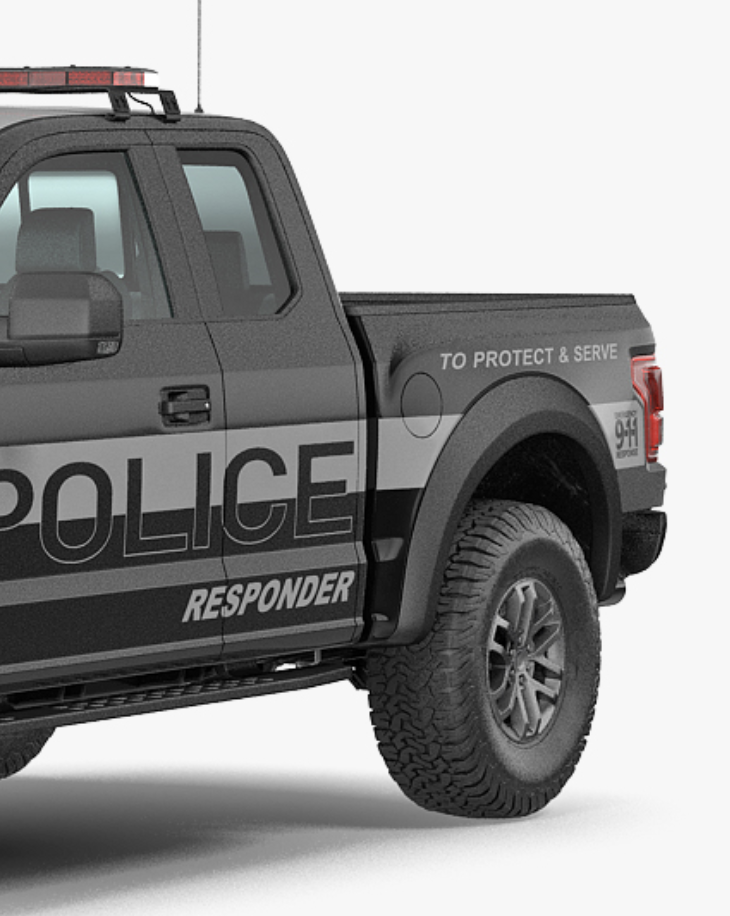hatch: (395, 365, 448, 443)
